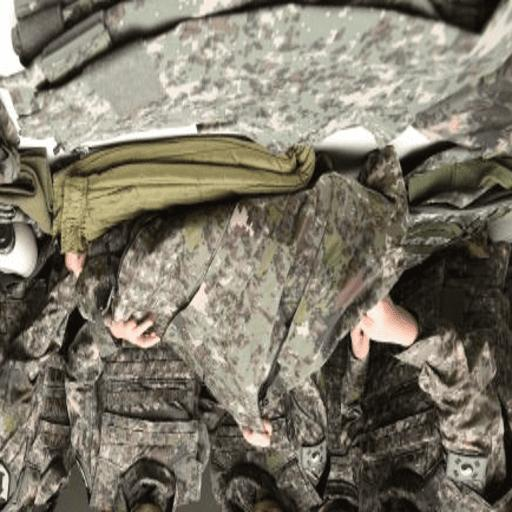korea army: (320, 225, 512, 506), (2, 243, 86, 507), (82, 318, 198, 509), (203, 397, 316, 512)
